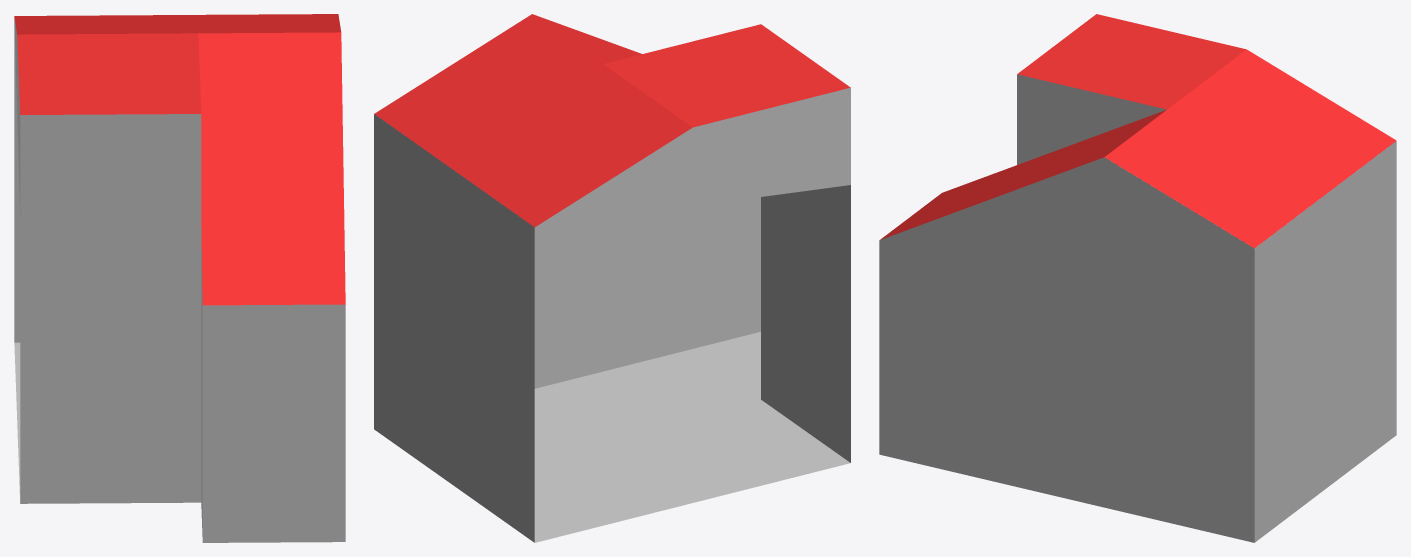
Rendered from pb-96357315-7f36-11f0-a2b1-9c7bef4dcf4c.dae.
3 renders of one model, left to right at view 1: azimuth 30°, elevation 25°; view 2: azimuth 150°, elevation 25°; view 3: azimuth 270°, elevation 25°, orthographic. The views are drawn at different scales.
Size of the model in its own units: 9.83 by 12.05 by 9.
